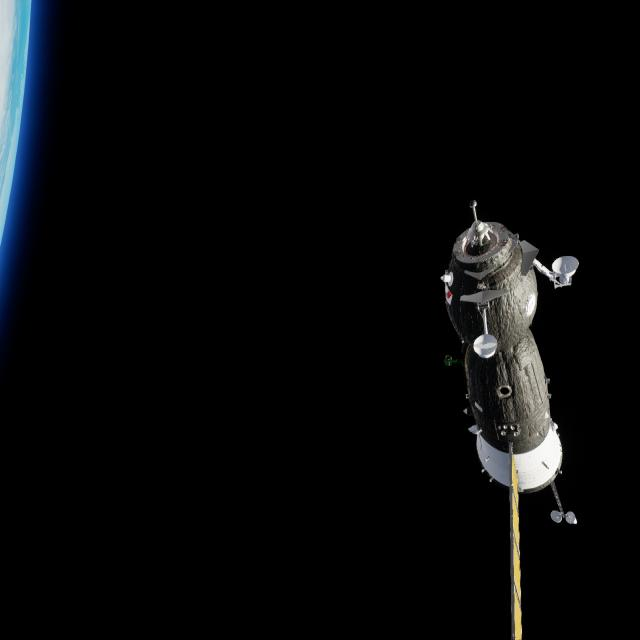Satellites revolving around earth: (439, 197, 582, 527)
